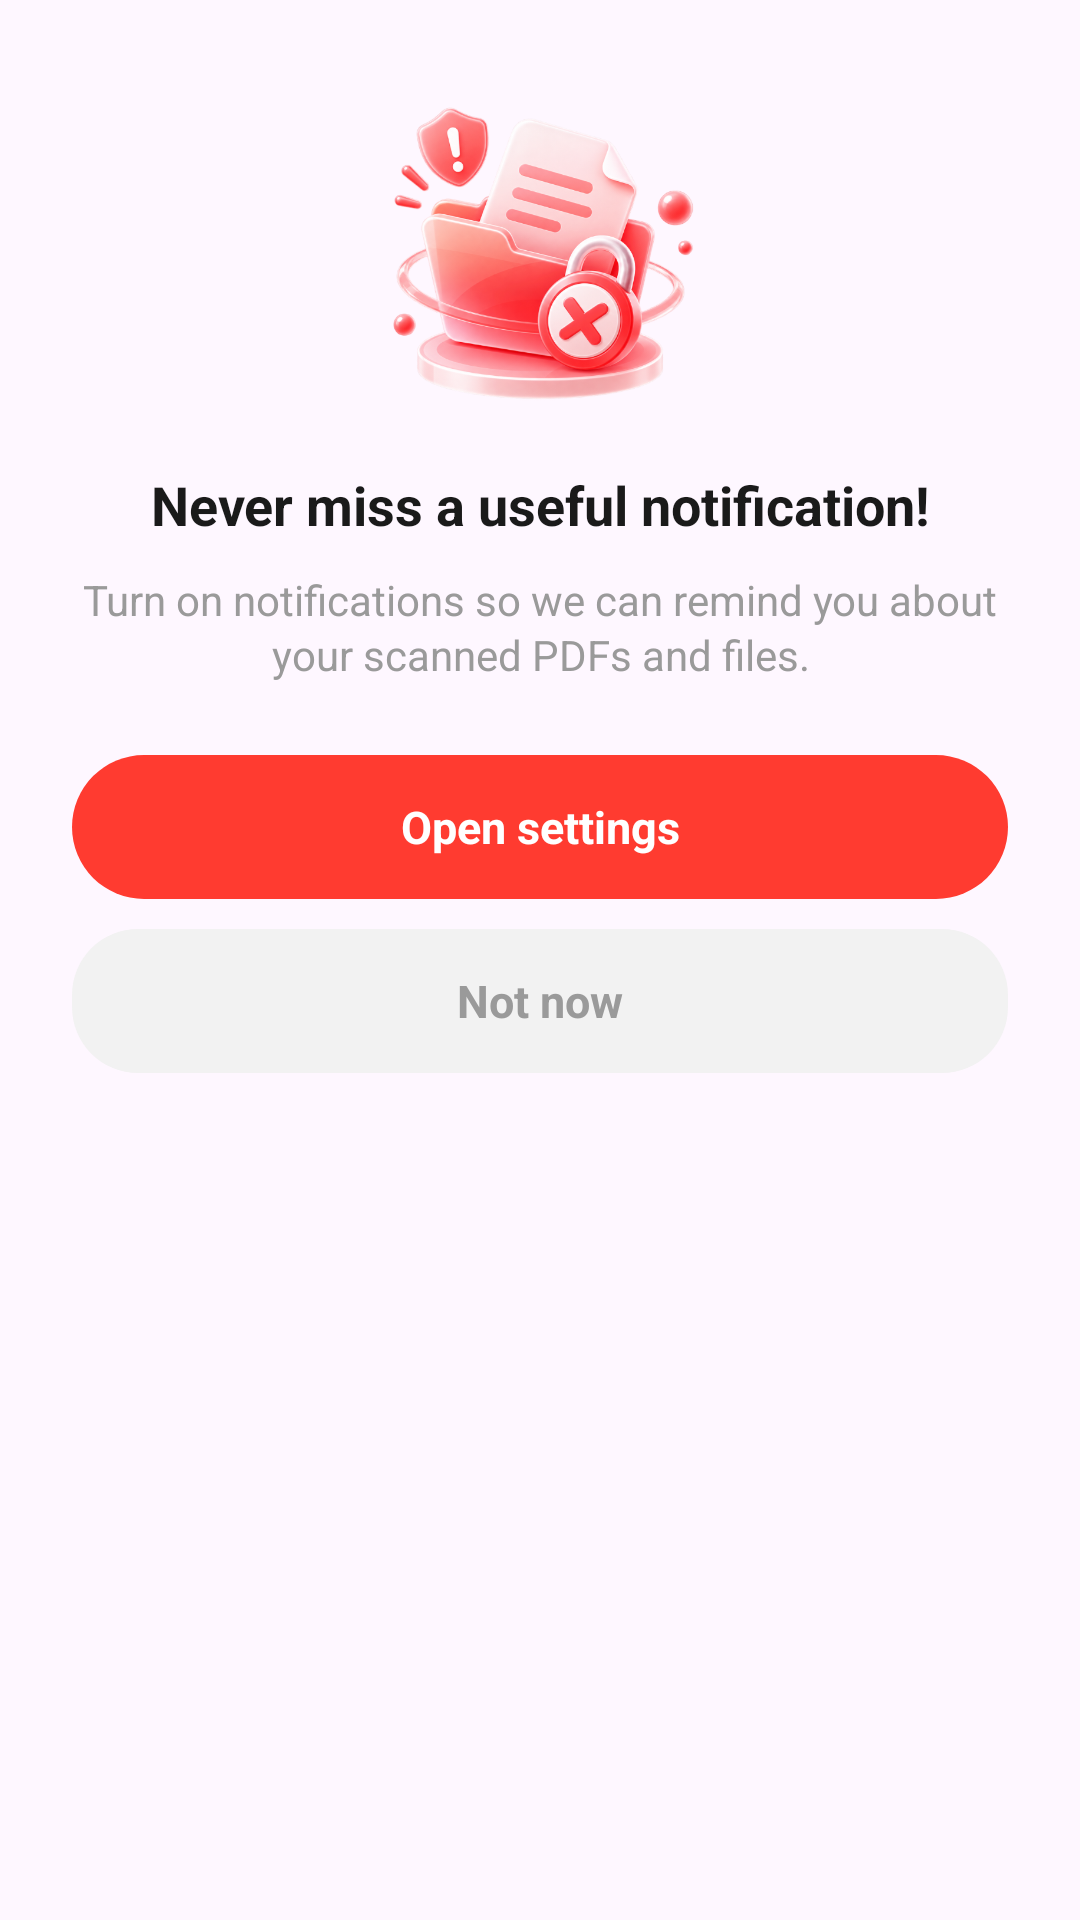

Icon bounding boxes for this 1080px×1920px phone screenshot, format rect(x1, y1, x2, y2):
permission: rect(393, 108, 693, 398)
